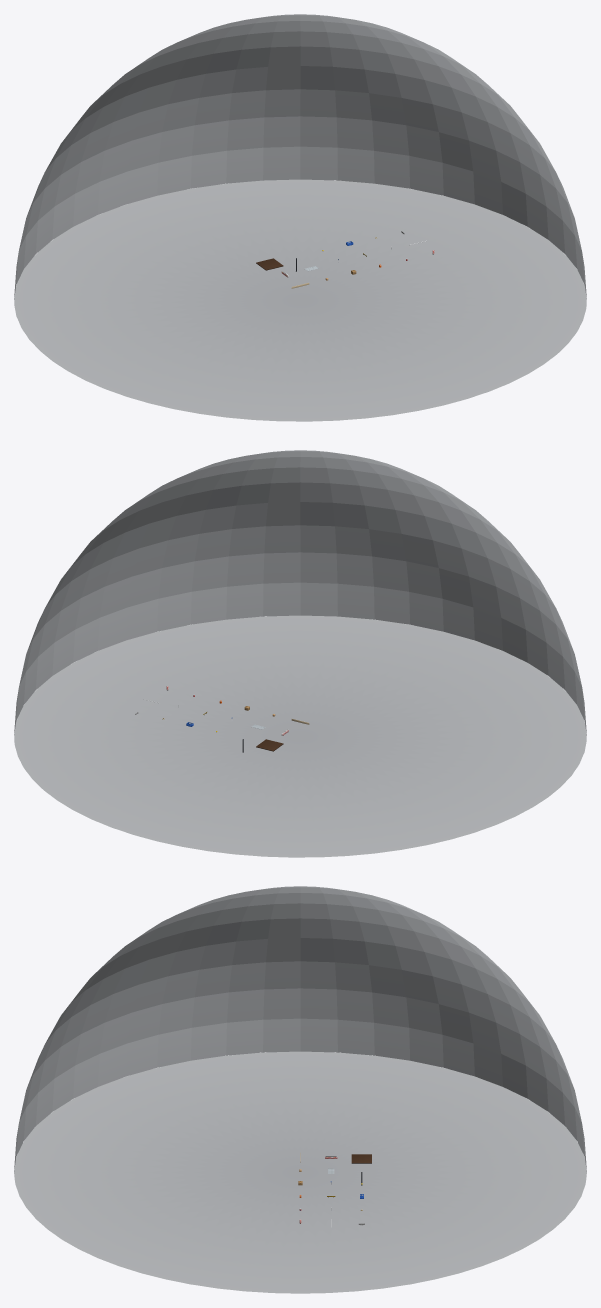
File: arena-props.glb
3 renders of one model, top to bottom at view 1: azimuth 30°, elevation 25°; view 2: azimuth 150°, elevation 25°; view 3: azimuth 270°, elevation 25°, orthographic.
Parts seen in each view (by area): view 1: studio_floor, studio_dome; view 2: studio_floor, studio_dome; view 3: studio_floor, studio_dome.
Part boxes in pixels (x1=…): studio_floor: x1=14, y1=179, x2=586, y2=421; studio_dome: x1=14, y1=14, x2=586, y2=299; studio_floor: x1=14, y1=615, x2=586, y2=857; studio_dome: x1=14, y1=450, x2=586, y2=735; studio_floor: x1=14, y1=1051, x2=586, y2=1293; studio_dome: x1=14, y1=886, x2=586, y2=1171.
Bounding box in the file's own units: 28 × 14 × 28.
Materials: 31 (12 with a texture image).
